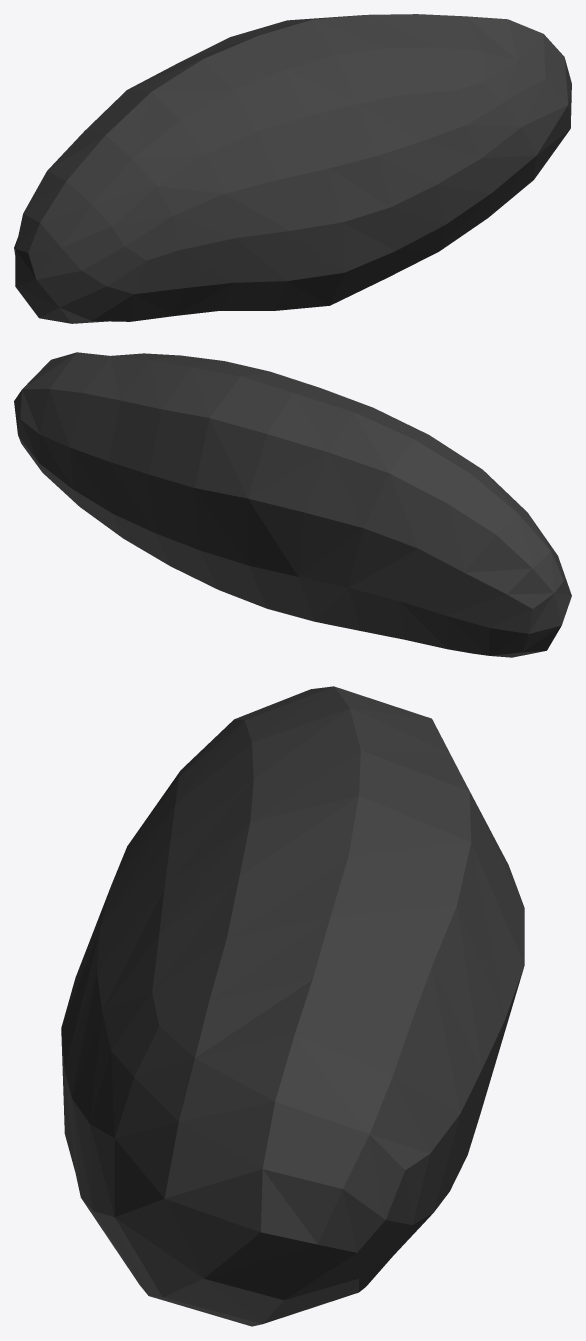
Rendered from RFL_Navicular_bone.glb.
3 renders of one model, top to bottom at view 1: azimuth 30°, elevation 25°; view 2: azimuth 150°, elevation 25°; view 3: azimuth 270°, elevation 25°, orthographic. The views are drawn at different scales.
Visible parts, largest first — view 1: RFL_Navicular_bone; view 2: RFL_Navicular_bone; view 3: RFL_Navicular_bone.
Part boxes in pixels (bbox=[...]): RFL_Navicular_bone: bbox=[14, 14, 571, 323]; RFL_Navicular_bone: bbox=[14, 352, 571, 657]; RFL_Navicular_bone: bbox=[61, 686, 524, 1326].
Bounding box in the file's own units: 5.67 × 2.48 × 2.09.
Materials: 1 (1 with a texture image).
